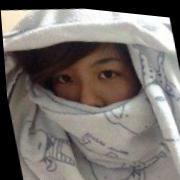WRONG: (42, 36, 150, 154)
